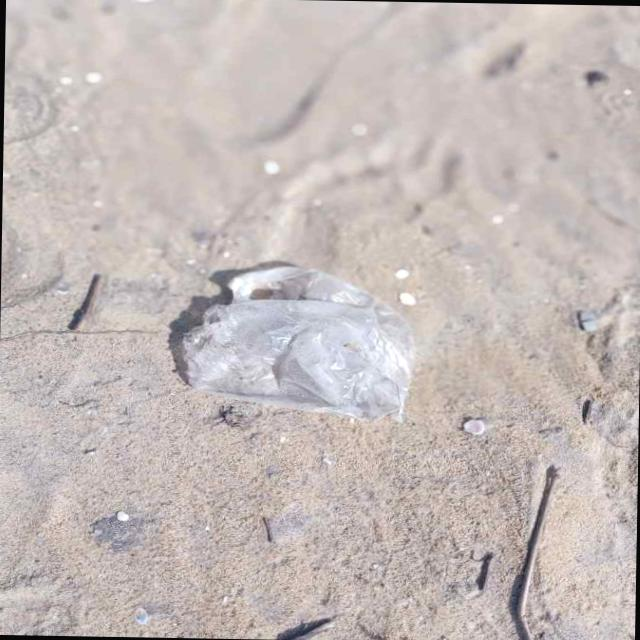nhua: (177, 263, 413, 417)
